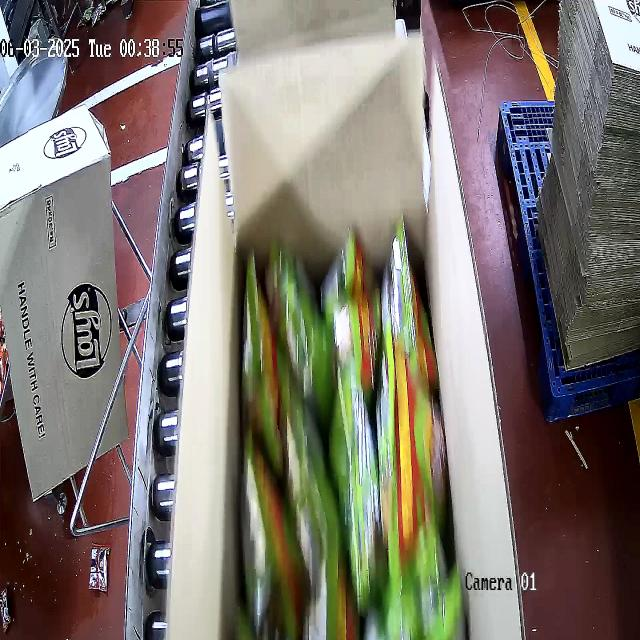YOGURT_HERB: (235, 229, 467, 640)
